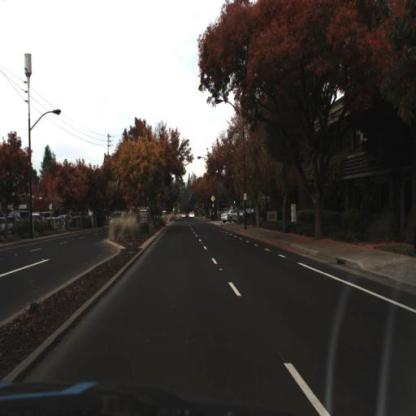car: (221, 209, 246, 225), (109, 209, 126, 227)
